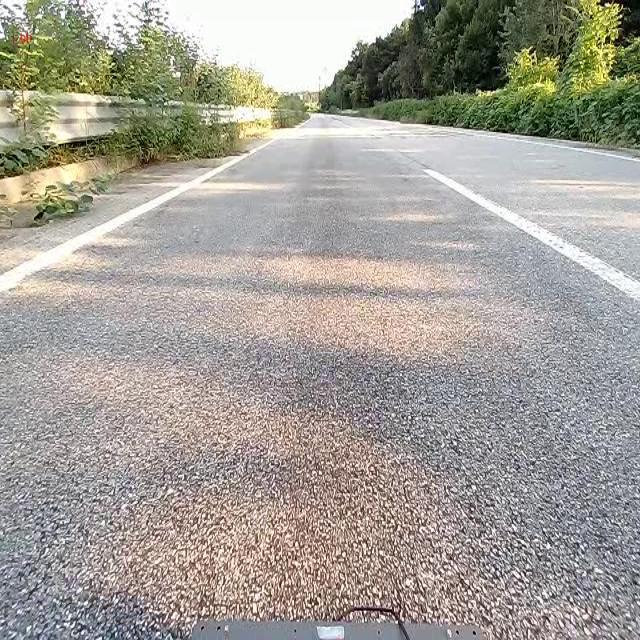Lane: (0, 133, 272, 326), (406, 160, 640, 345), (0, 141, 274, 293), (421, 166, 639, 302)
